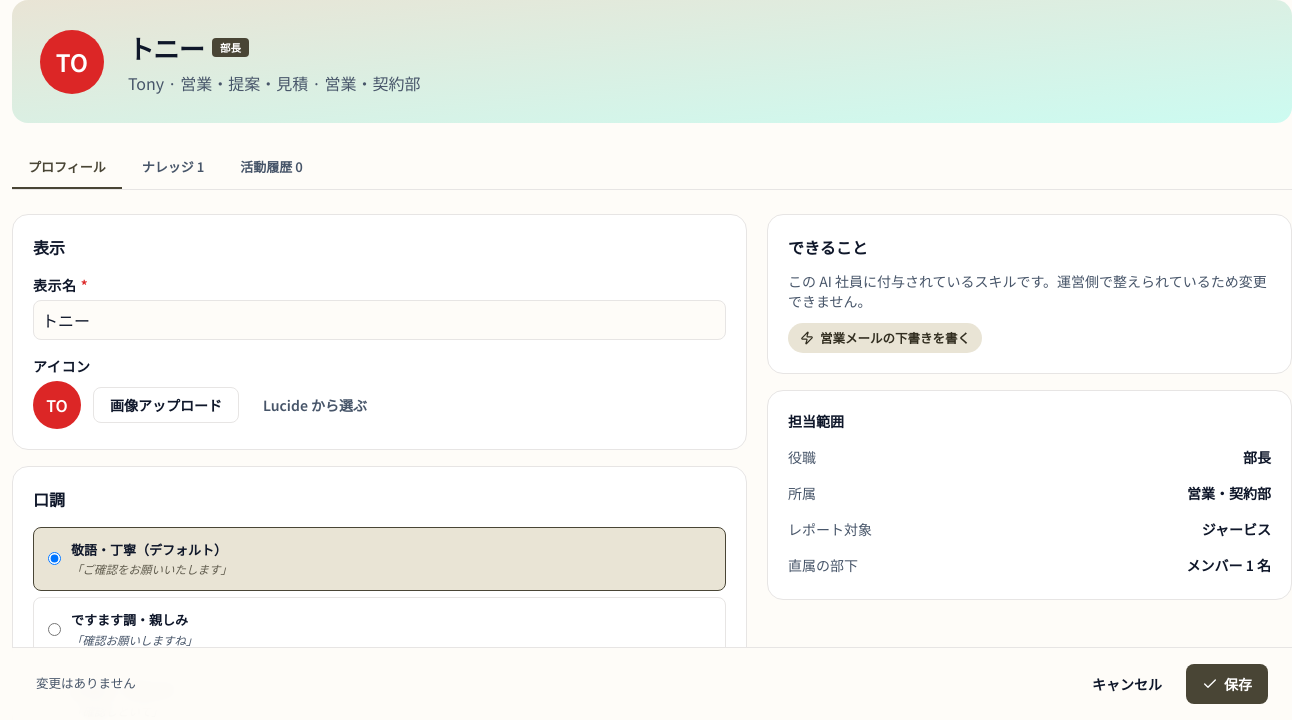
S-C02 v2: 実データ表示 + アイコンピッカー › switches to the knowledge tab and shows real categories
Expected: the field labelled "表示名*" is shown, [33,300,726,340]
Click the tab "ナレッジ 1".
click(173, 168)  # box [126,147,220,188]
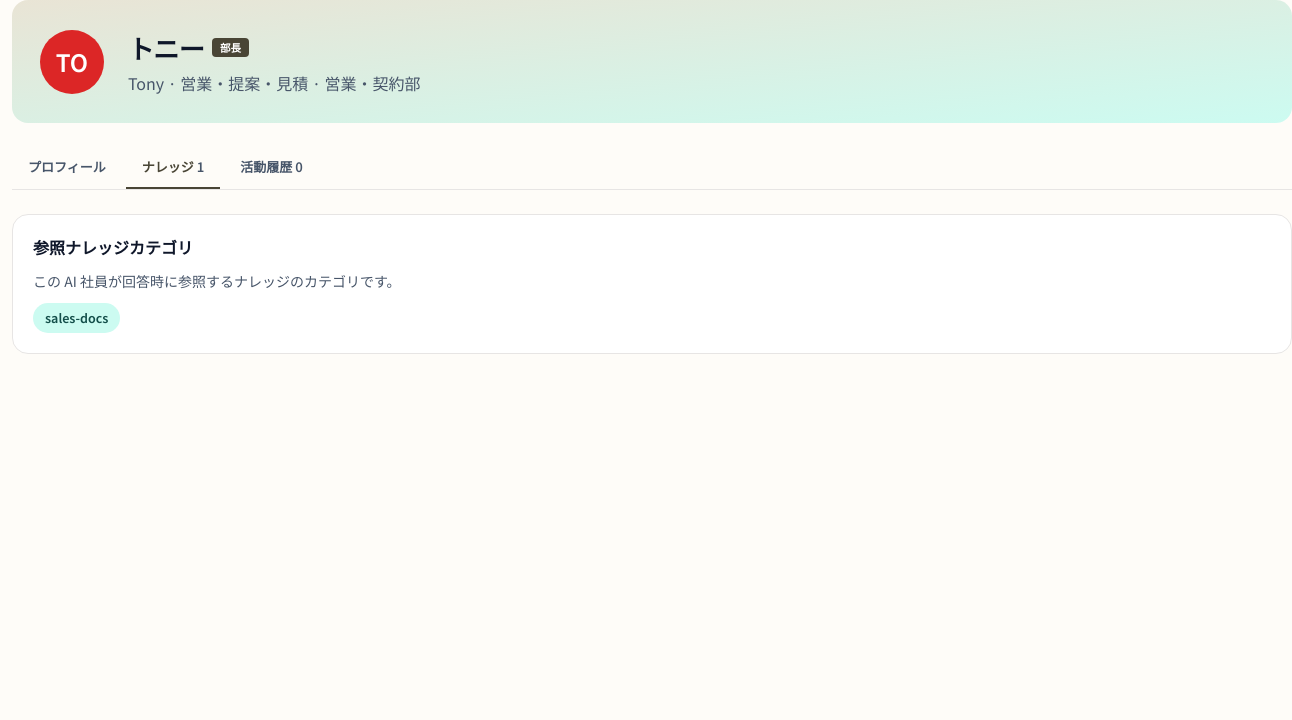
Now the text "sales-docs" is shown, box [33,302,120,333]
Now the label labelled "表示名" is gone
